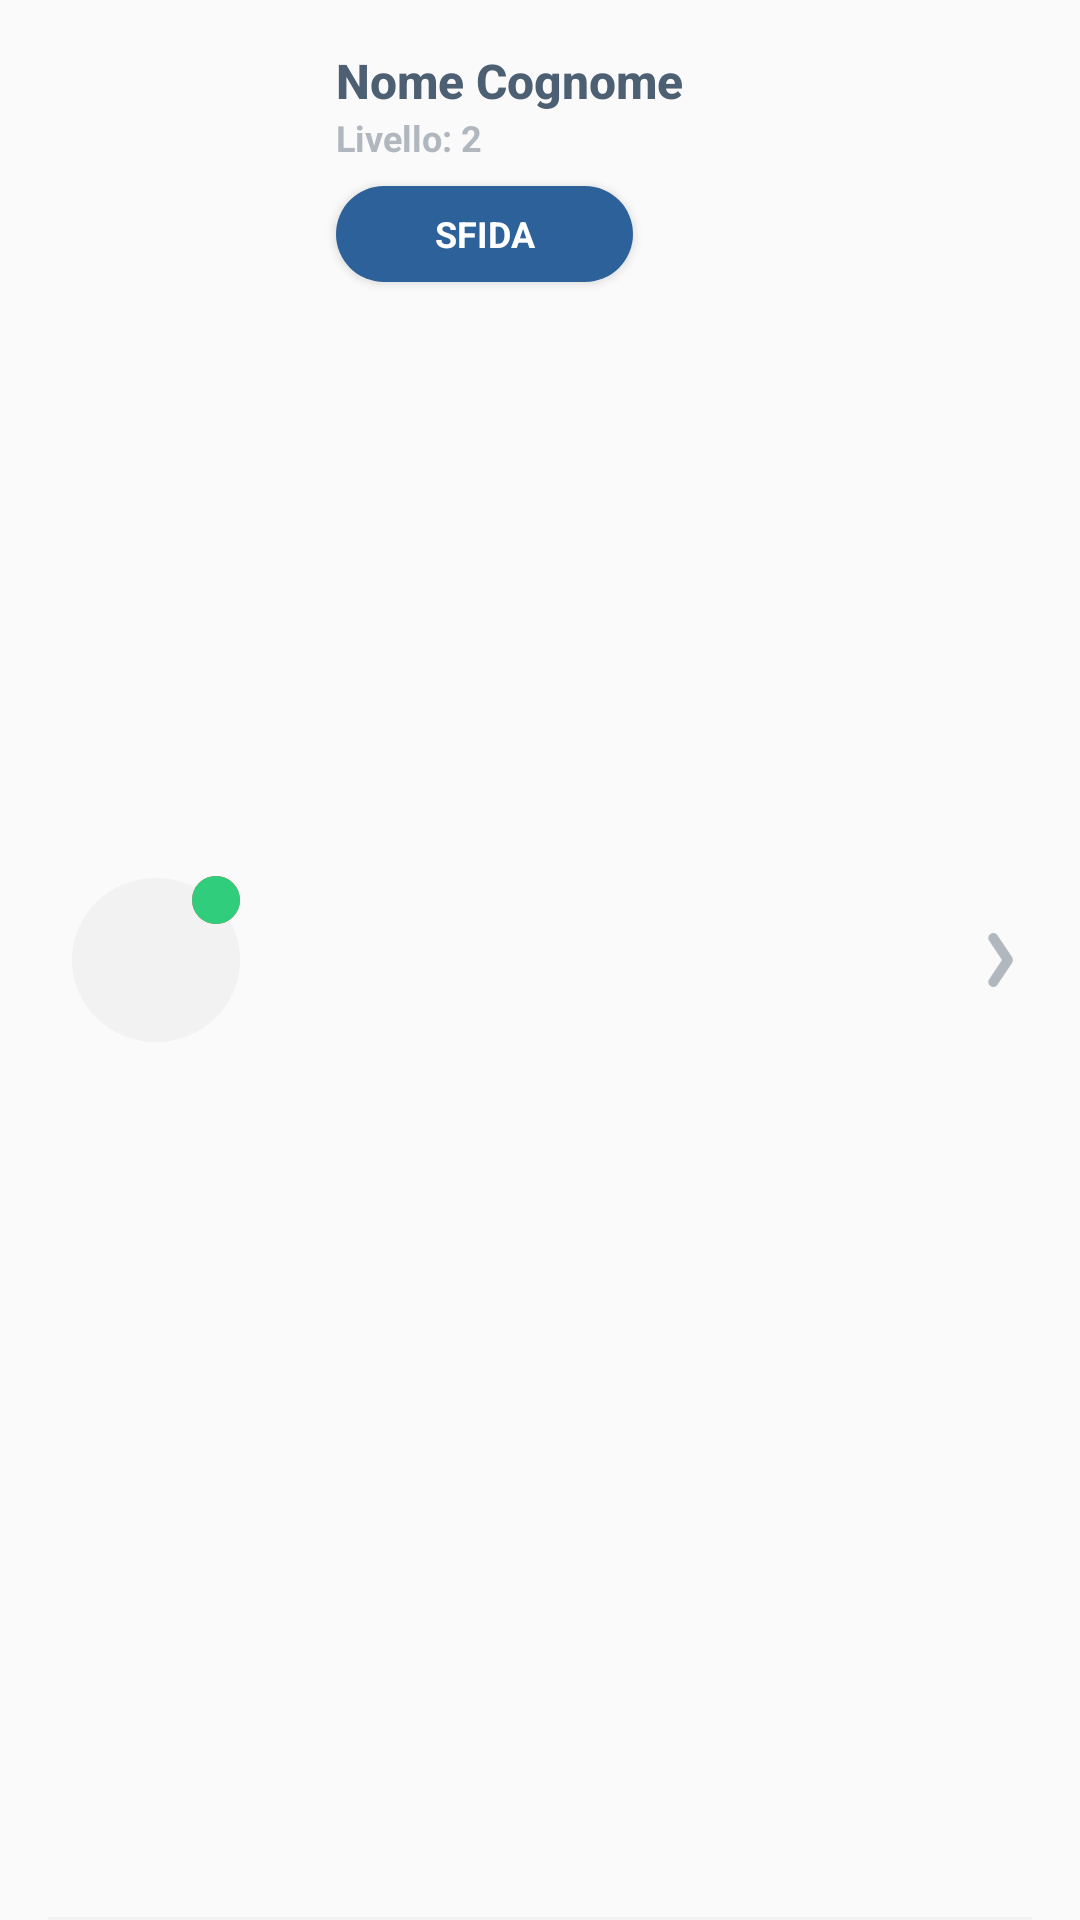

Icons on this 1080 x 1920 Android screen, each with its box as (left=x1, top=y1, right=x2, bottom=y2):
disclosure: (left=988, top=933, right=1013, bottom=987)
